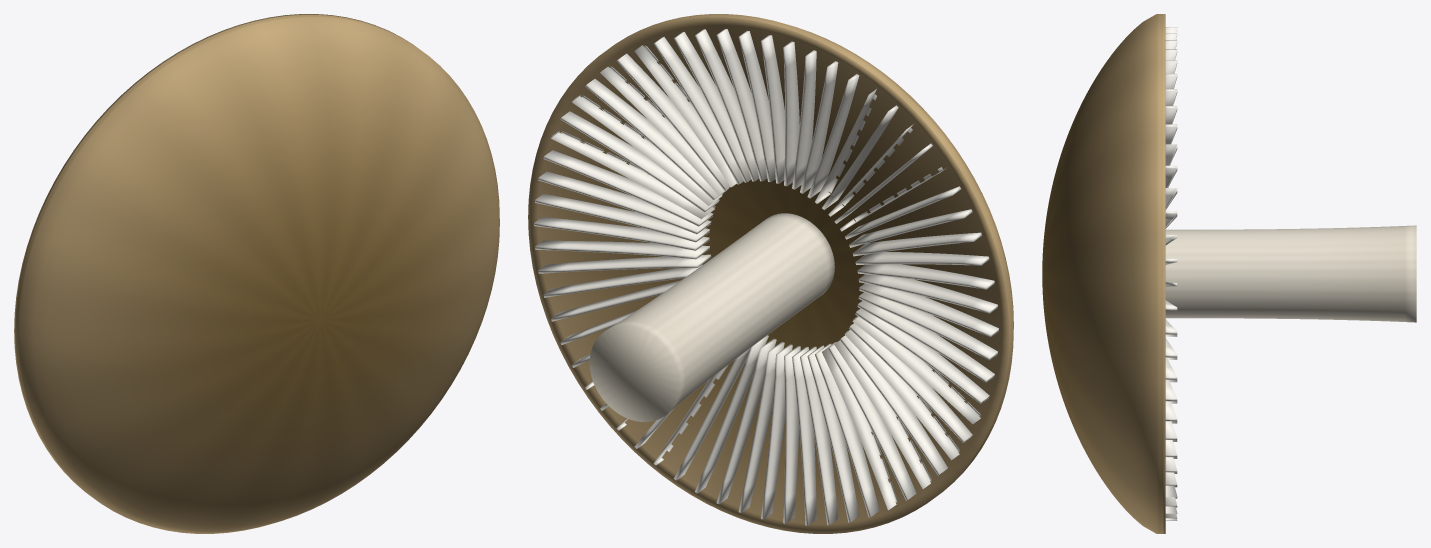
File: lentinula-edodes.glb
The picture shows the model from 3 angles, left to right: view 1: azimuth 30°, elevation 25°; view 2: azimuth 150°, elevation 25°; view 3: azimuth 270°, elevation 25°; orthographic projection. The views are drawn at different scales.
Visible parts, largest first — view 1: pileus_cap; view 2: lamellae_gills, pileus_cap, stipe_stem; view 3: pileus_cap, stipe_stem, lamellae_gills.
Part boxes in pixels (x1,y1,x2,y2): pileus_cap: [14, 14, 499, 533]; lamellae_gills: [534, 29, 998, 525]; pileus_cap: [528, 14, 1013, 533]; stipe_stem: [589, 213, 834, 421]; pileus_cap: [1042, 14, 1165, 533]; stipe_stem: [1165, 225, 1416, 322]; lamellae_gills: [1165, 27, 1177, 520].
Size of the model in its own units: 2 by 2 by 1.44.
